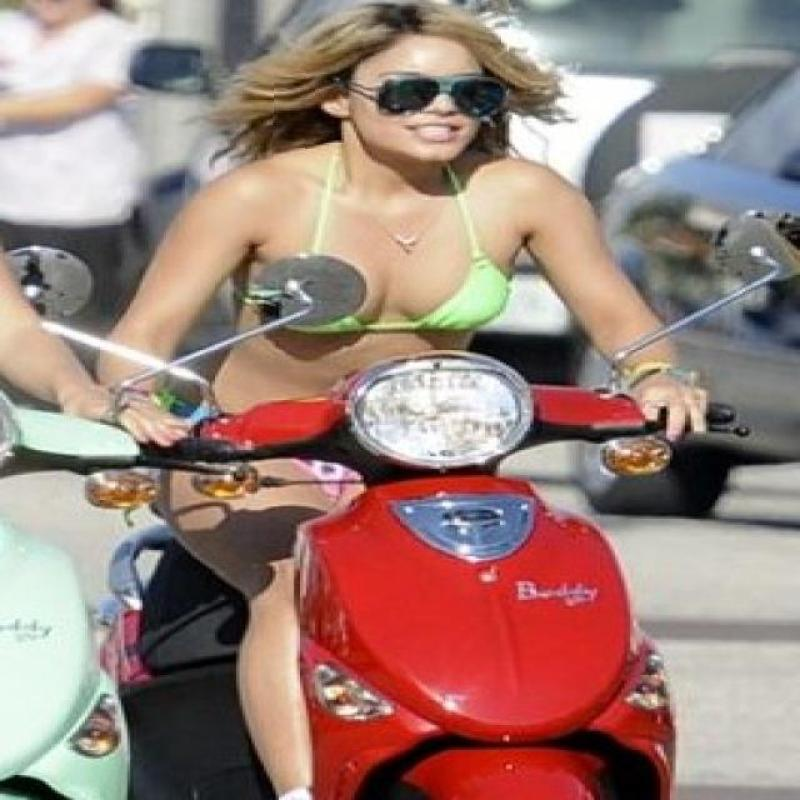nohelmet: (274, 0, 508, 172)
